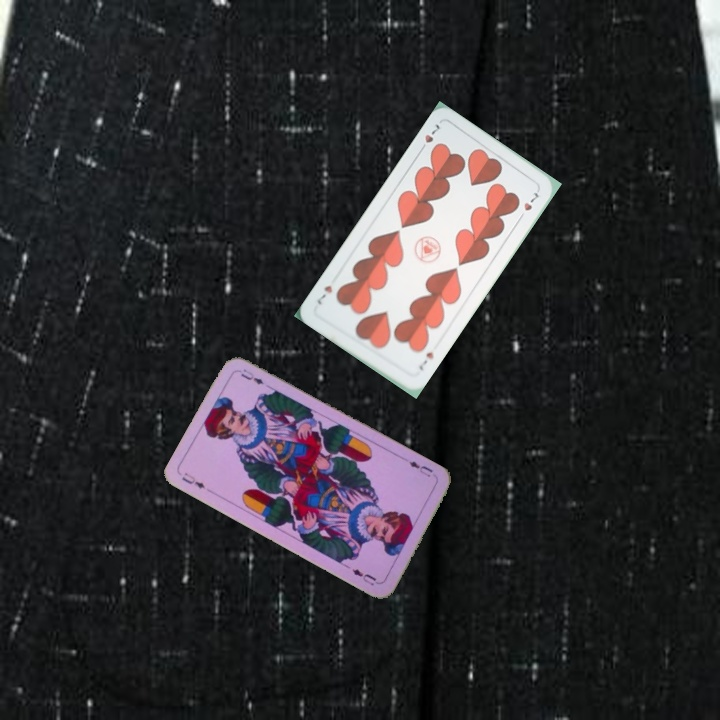EU: (405, 457, 435, 480), (178, 468, 208, 491)
H7: (415, 119, 444, 155), (415, 347, 436, 373)
